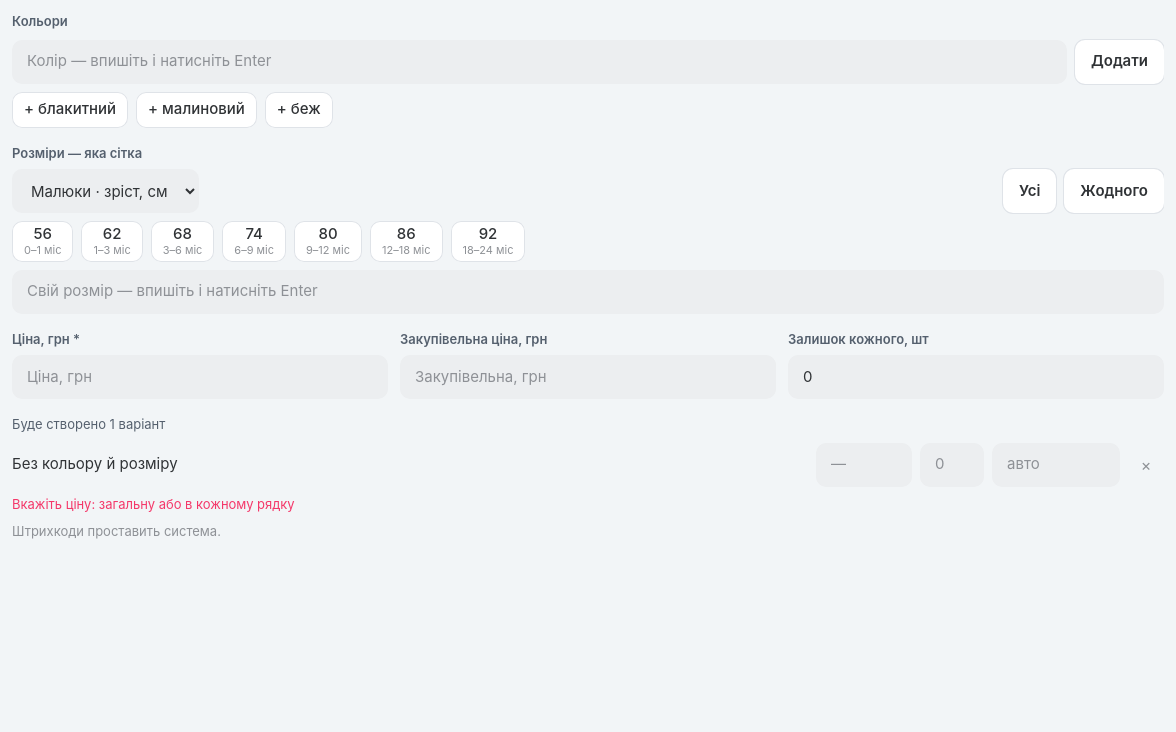
Test: VariantMatrix — the rows › makes every colour by every size, colour by colour, sizes in the scale's order
In the field named "Новий колір": (540, 62) [12,40,1067,84], type "блакитний"
Then press Enter
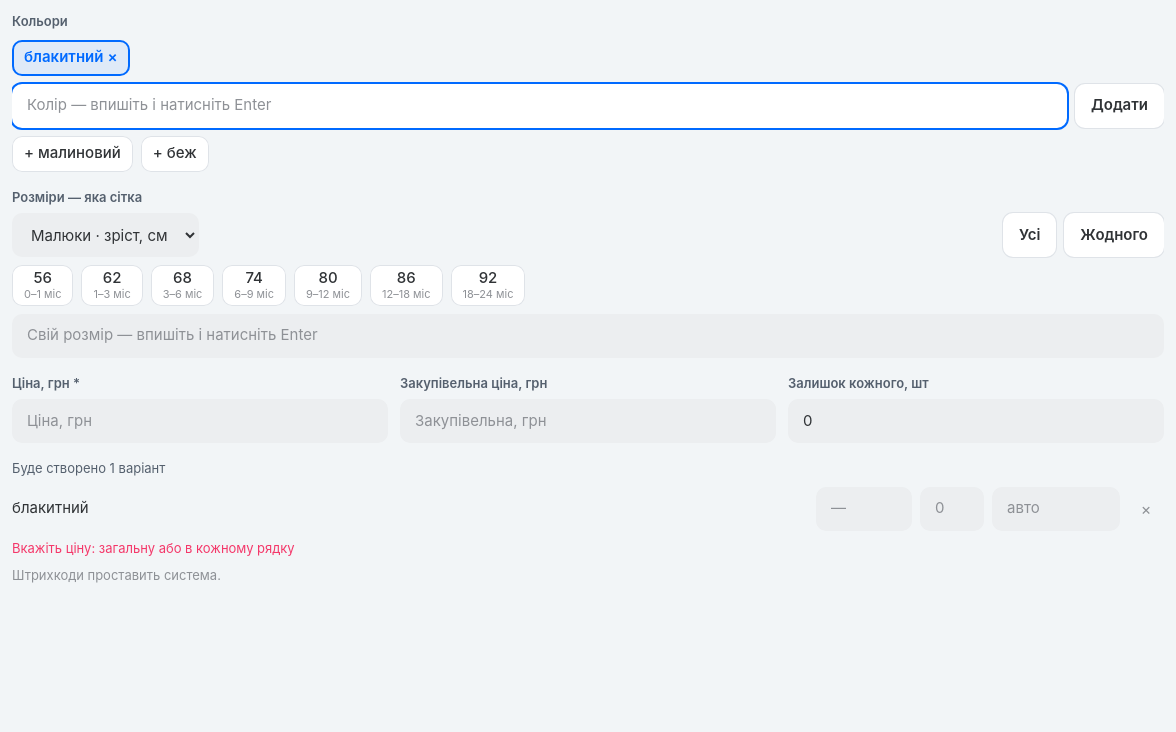
In the field named "Новий колір": (540, 106) [12,84,1067,128], type "рожевий"
Then press Enter
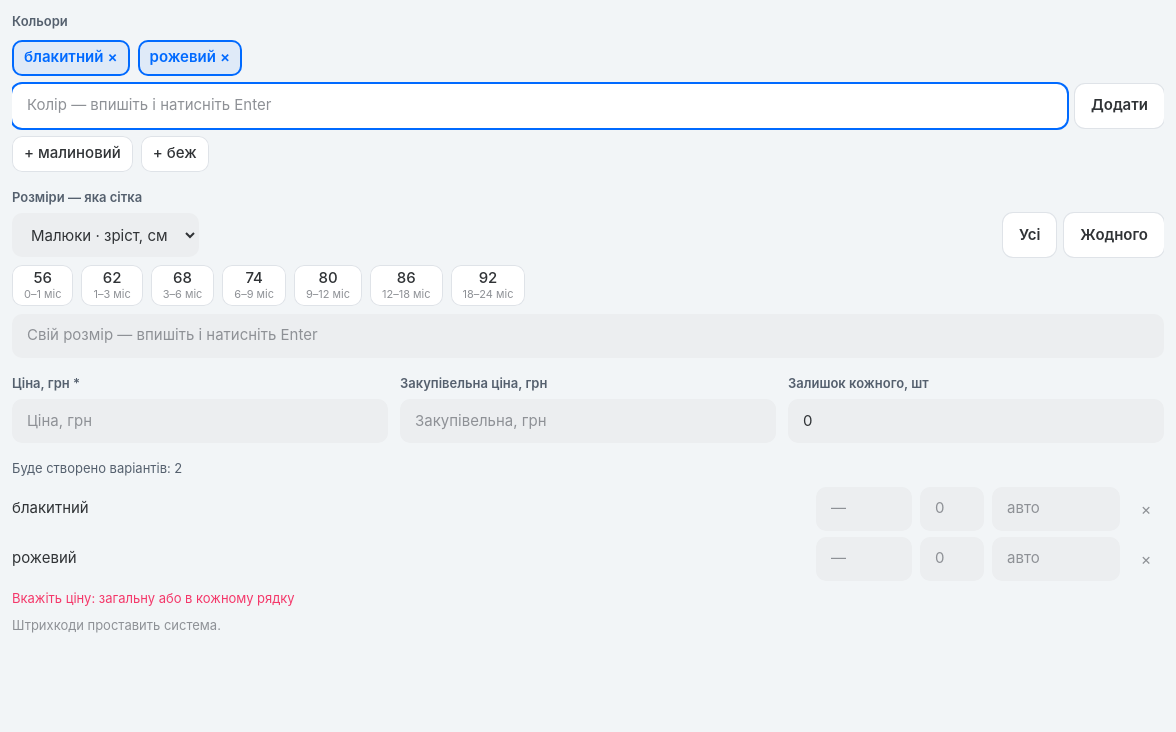
Click the button "86 12–18 міс": (406, 285) [370,265,442,306]
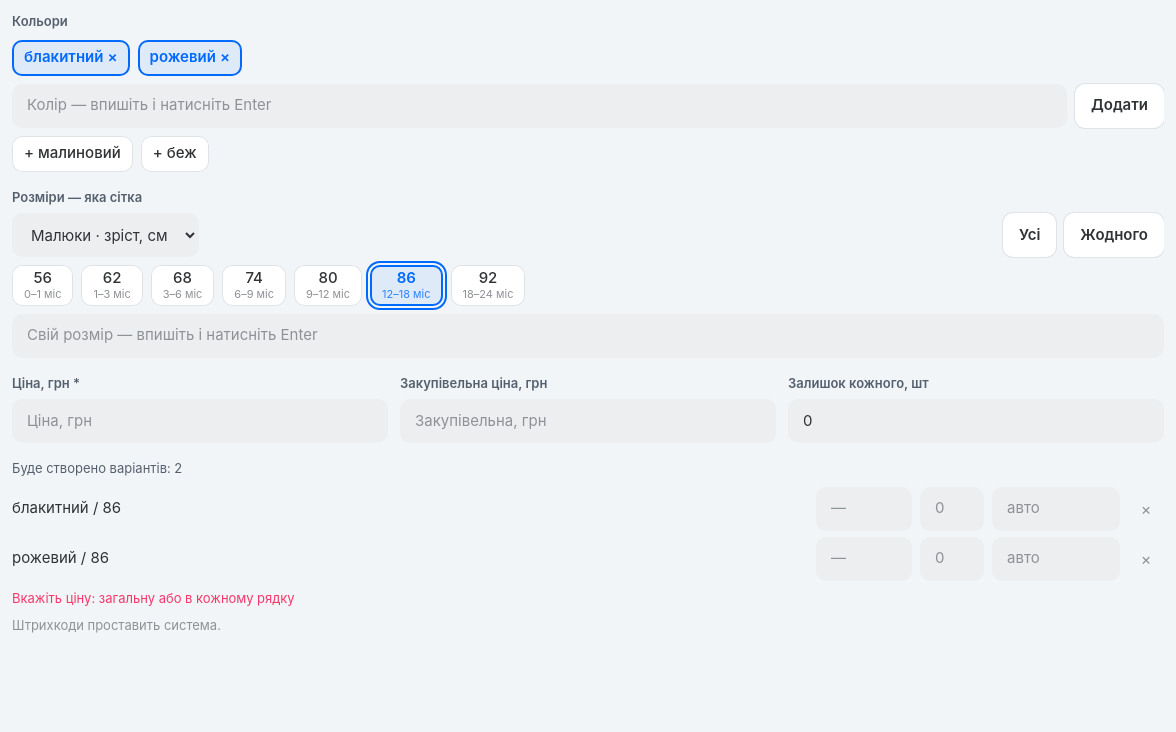
Click the button "92 18–24 міс": (488, 285) [450,265,525,306]
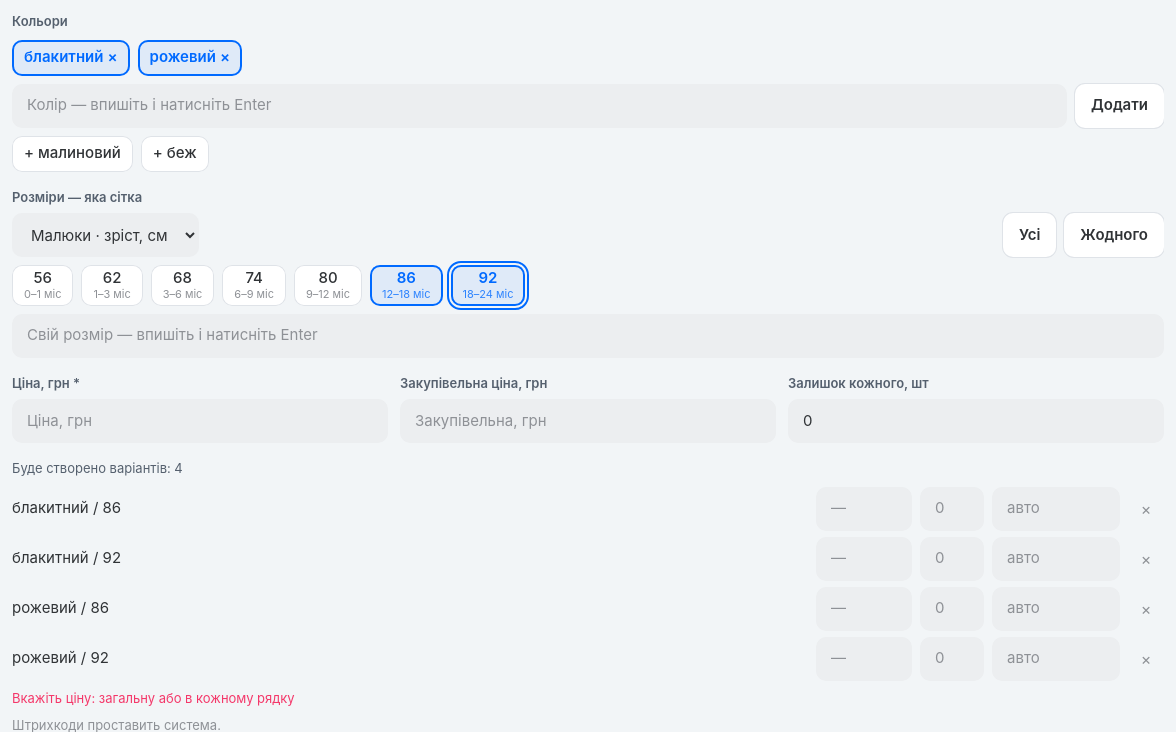
Click the button "80 9–12 міс": (328, 285) [294,265,362,306]
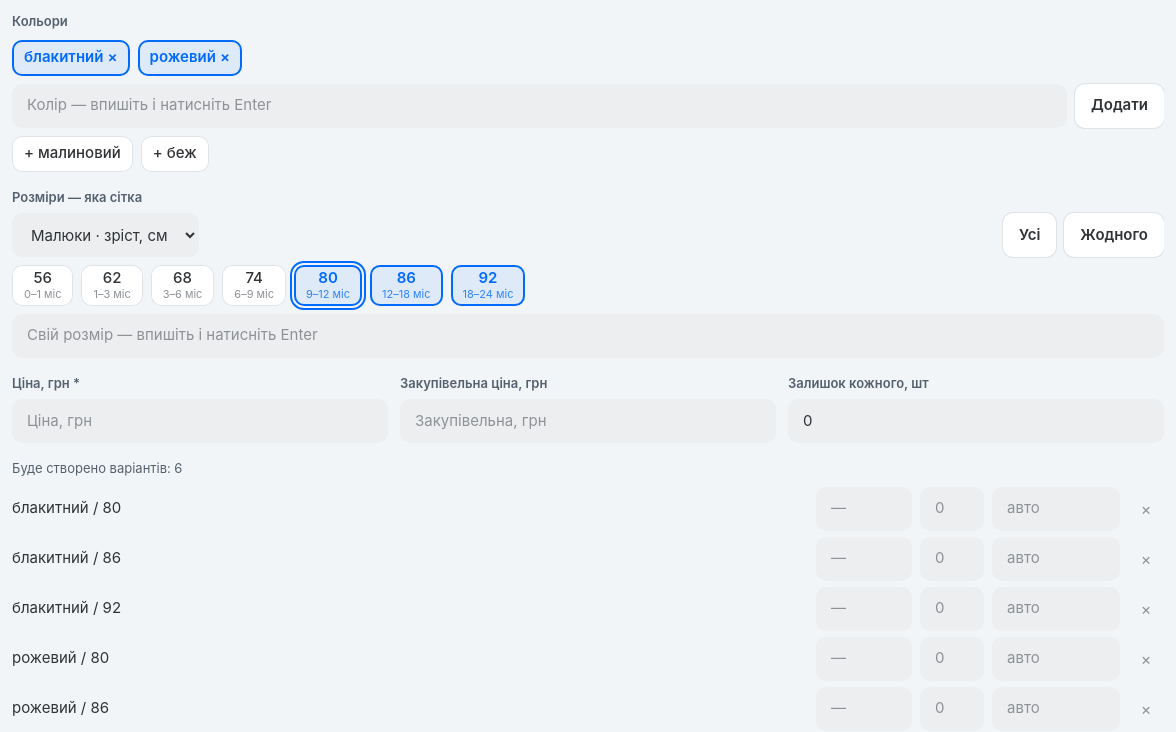
Check: the text with test id "matrix-summary" reads "Буде створено варіантів: 6", box [12,460,182,476]
